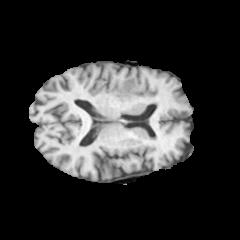glioma: (112, 76, 157, 106)
